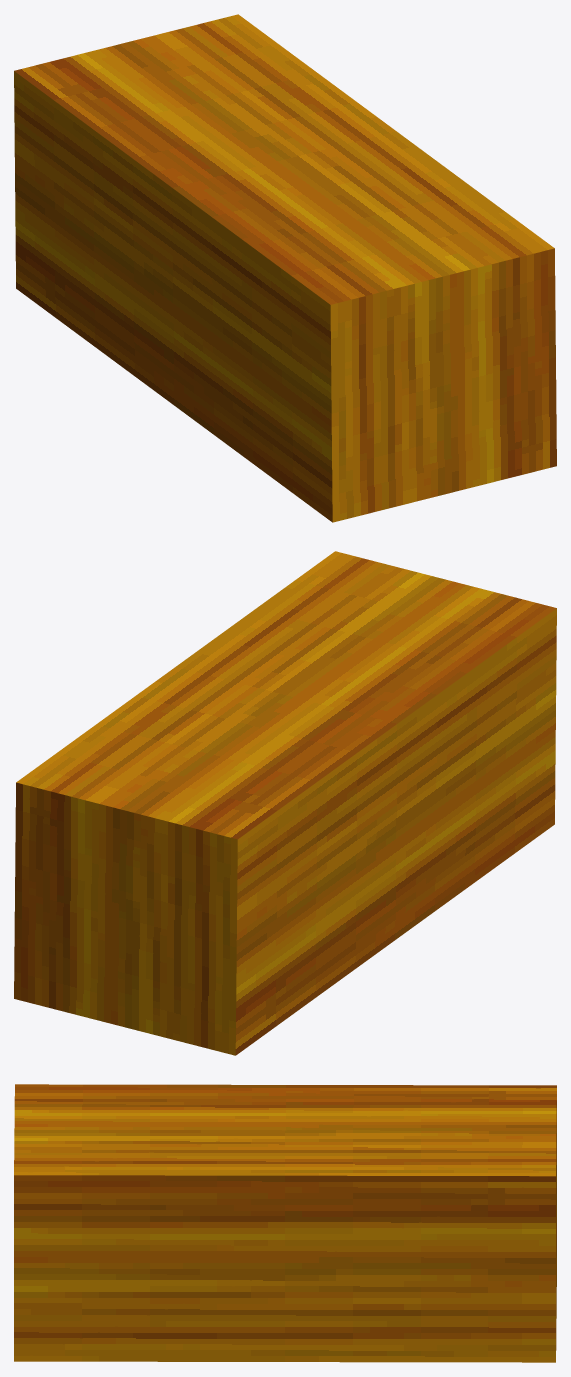
Rendered from Wood.fbx.
3 views of the same model, one above another, from view 1: azimuth 30°, elevation 25°; view 2: azimuth 150°, elevation 25°; view 3: azimuth 270°, elevation 25° (orthographic). The views are drawn at different scales.
Parts seen in each view (by area): view 1: gPigBraceGnd; view 2: gPigBraceGnd; view 3: gPigBraceGnd.
Boxes of the visible parts, left/top/right/bottom form: gPigBraceGnd: left=14, top=14, right=556, bottom=522; gPigBraceGnd: left=14, top=551, right=556, bottom=1055; gPigBraceGnd: left=14, top=1084, right=556, bottom=1362.
Bounding box in the file's own units: 105 × 97 × 255.
